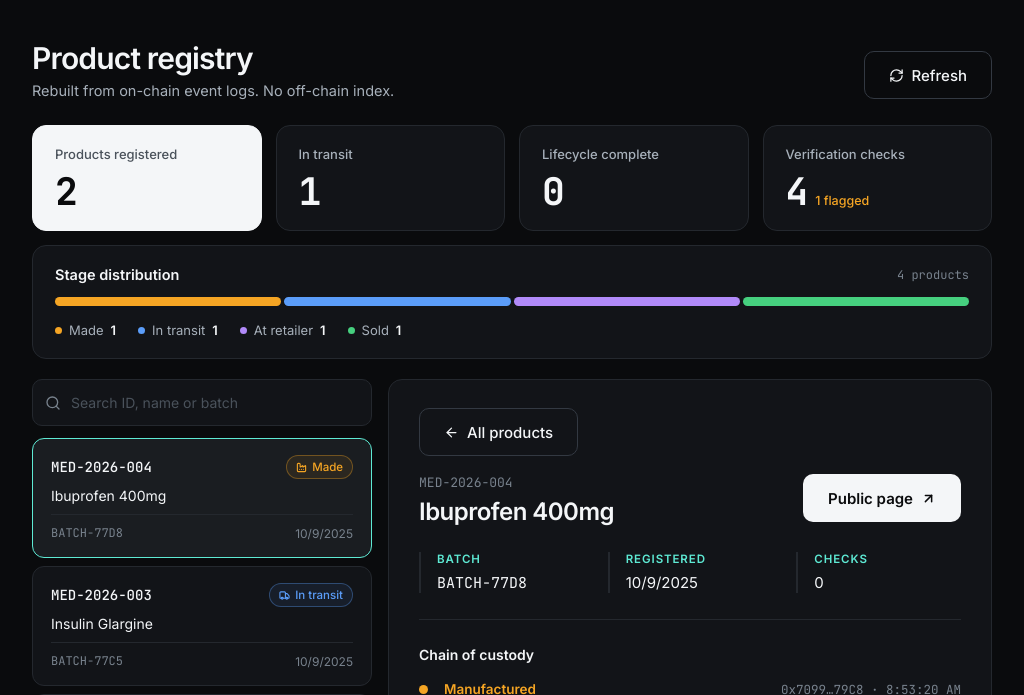
Dashboard (registry) › tells the user when a search matches nothing
The width and height of the screenshot is (1024, 695).
Expected: the text "Insulin Glargine" is shown, 51,615 -> 153,632
Type "zzzzz" into the field named "search products".
click(202, 402); type("zzzzz")  # box 32,379 -> 372,426
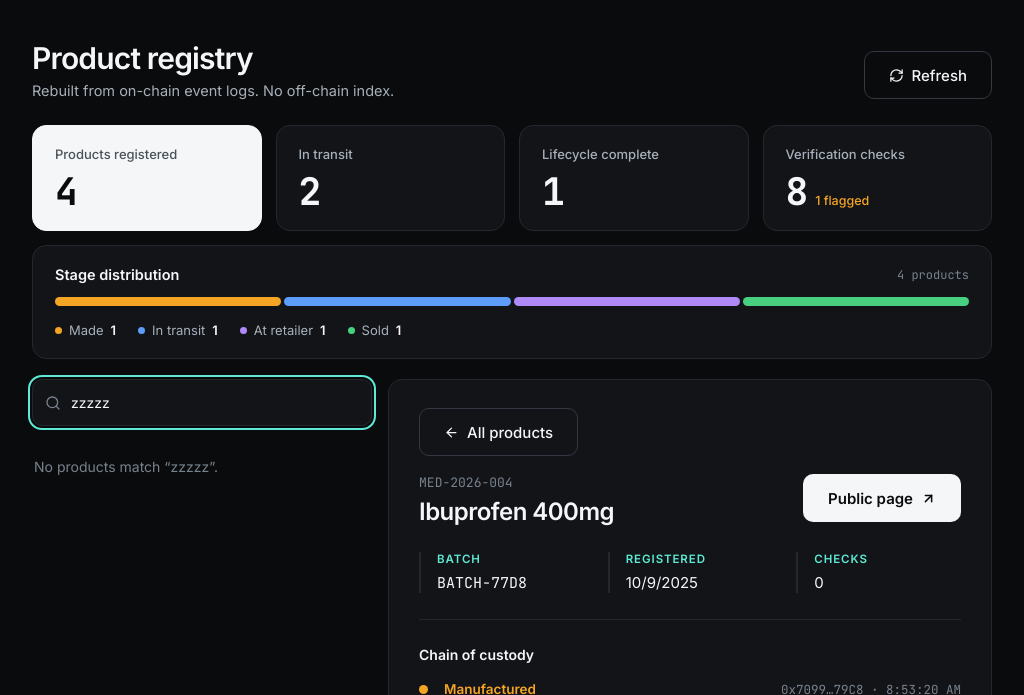
Result: the text "No products match “zzzzz”." is shown at 34,458 -> 218,475
